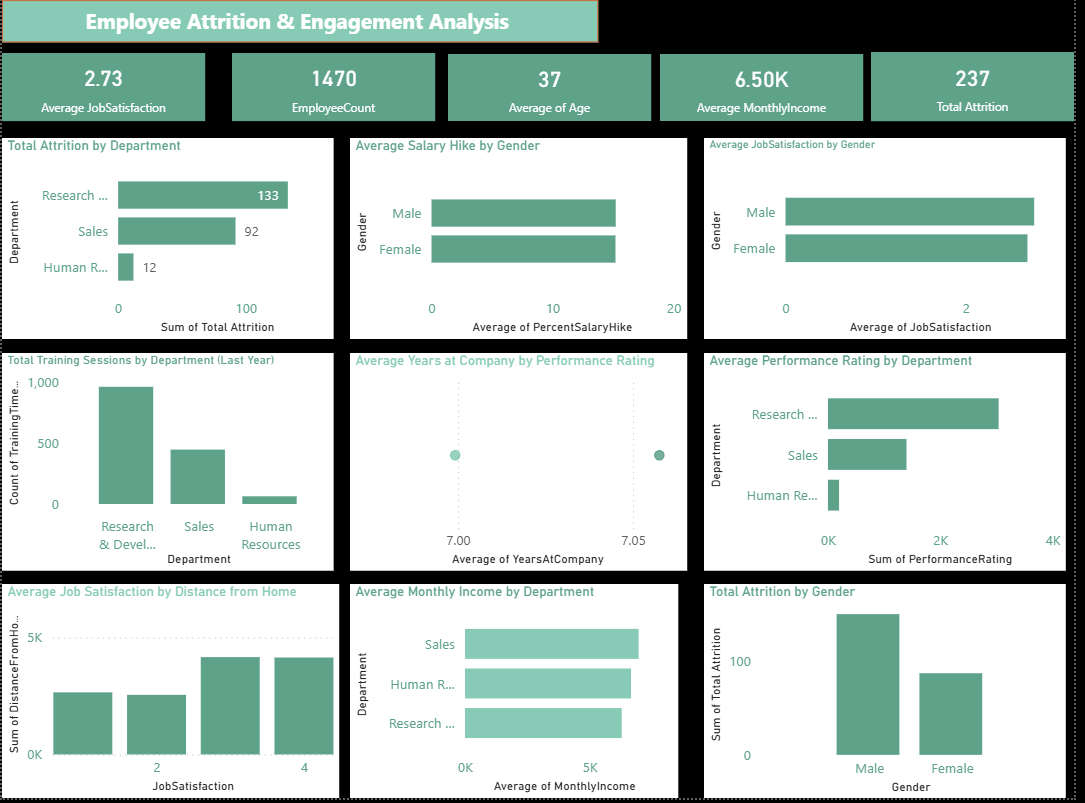

This screenshot's page, from the dashboard's own definition file:
{"tool":"powerbi","page":{"name":"Page 1","canvas":[960,720],"ordinal":0},"visuals":[{"type":"card","fields":{"Values":["Avg(Hr.MonthlyIncome)"]},"box":[589.3,53.7,181.8,60],"z":0},{"type":"card","fields":{"Values":["Avg(Hr.JobSatisfaction)"]},"box":[0,52.8,181.8,60.9],"z":1000},{"type":"card","fields":{"Values":["Sum(Hr.EmployeeCount)"]},"box":[206,52.8,181.8,60.9],"z":2000},{"type":"clusteredBarChart","title":"Average JobSatisfaction by Gender","fields":{"Category":["Hr.Gender"],"Y":["Avg(Hr.JobSatisfaction)"]},"box":[628.7,129,324.2,180],"z":3000},{"type":"columnChart","title":"Average Job Satisfaction by Distance from Home","fields":{"Category":["Hr.JobSatisfaction"],"Y":["Sum(Hr.DistanceFromHome)"]},"box":[0,528.4,301.8,191.6],"z":4000},{"type":"barChart","title":"Average Salary Hike by Gender","fields":{"Category":["Hr.Gender"],"Y":["Avg(Hr.PercentSalaryHike)"]},"box":[311.6,129,301.8,180],"z":5000},{"type":"barChart","title":"Average Monthly Income by Department","fields":{"Category":["Hr.Department"],"Y":["Avg(Hr.MonthlyIncome)"]},"box":[311.6,528.4,293.7,191.6],"z":6000},{"type":"columnChart","title":"Total Training Sessions by Department (Last Year)","fields":{"Category":["Hr.Department"],"Y":["CountNonNull(Hr.TrainingTimesLastYear)"]},"box":[0,321.5,297.3,195.2],"z":7000},{"type":"barChart","fields":{"Category":["Hr.Department"],"Y":["Sum(Hr.EmployeeCount)"]},"box":[1002.3,535.3,183.1,149.9],"z":8000},{"type":"clusteredBarChart","title":"Average Performance Rating by Department","fields":{"Category":["Hr.Department"],"Y":["Sum(Hr.PerformanceRating)"]},"box":[628.7,321.5,324.2,195.2],"z":9000},{"type":"scatterChart","title":"Average Years at Company by Performance Rating","fields":{"Category":["Hr.PerformanceRating"],"X":["Avg(Hr.YearsAtCompany)"]},"box":[311.6,321.5,301.8,195.2],"z":10000},{"type":"card","fields":{"Values":["Sum(Hr.Attrition Rate (%))"]},"box":[778.2,51.9,181.8,61.8],"z":11000},{"type":"clusteredBarChart","title":"Total Attrition by Department","fields":{"Y":["Sum(Hr.Total Attrition)"],"Category":["Hr.Department"]},"box":[0,129,297.3,180],"z":12000},{"type":"textbox","box":[0,5.4,533.7,37.6],"z":13000},{"type":"card","fields":{"Values":["Avg(Hr.Age)"]},"box":[399.4,53.7,181.8,60],"z":14000},{"type":"clusteredColumnChart","title":" Total Attrition by Gender","fields":{"Category":["Hr.Gender"],"Y":["Sum(Hr.Total Attrition)"]},"box":[629,528,324,192],"z":15000}]}

Visuals, with their boxes in screenshot pixels (x1, y1, x2, y2), scaled from the page's 960x720 canvas onto the 1085x803 screenshot:
card - Avg(Hr.MonthlyIncome): crop(666, 60, 872, 127)
card - Avg(Hr.JobSatisfaction): crop(0, 59, 205, 127)
card - Sum(Hr.EmployeeCount): crop(233, 59, 438, 127)
"Average JobSatisfaction by Gender" clusteredBarChart: crop(711, 144, 1077, 345)
"Average Job Satisfaction by Distance from Home" columnChart: crop(0, 589, 341, 802)
"Average Salary Hike by Gender" barChart: crop(352, 144, 693, 345)
"Average Monthly Income by Department" barChart: crop(352, 589, 684, 802)
"Total Training Sessions by Department (Last Year)" columnChart: crop(0, 359, 336, 576)
"Average Performance Rating by Department" clusteredBarChart: crop(711, 359, 1077, 576)
"Average Years at Company by Performance Rating" scatterChart: crop(352, 359, 693, 576)
card - Sum(Hr.Attrition Rate (%)): crop(880, 58, 1084, 127)
"Total Attrition by Department" clusteredBarChart: crop(0, 144, 336, 345)
textbox: crop(0, 6, 603, 48)
card - Avg(Hr.Age): crop(451, 60, 657, 127)
" Total Attrition by Gender" clusteredColumnChart: crop(711, 589, 1077, 802)
